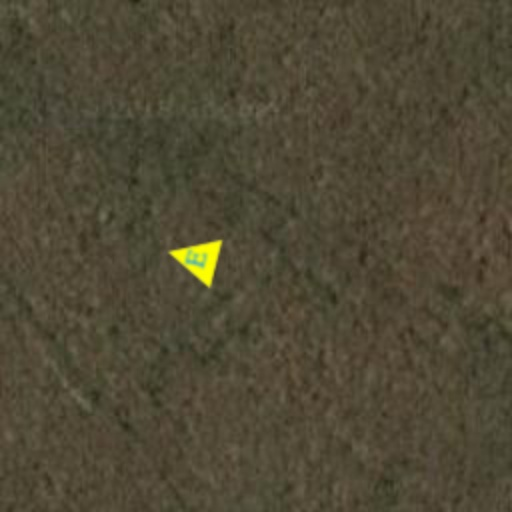triangle: (160, 226, 224, 290)
